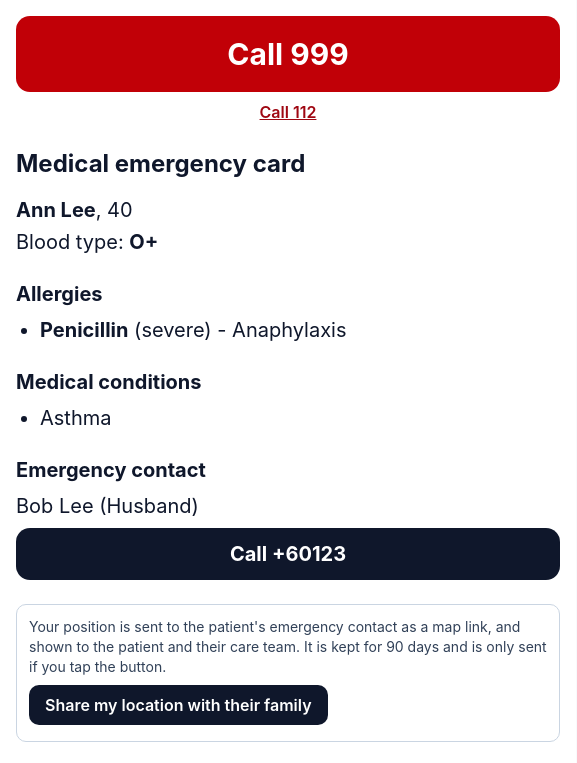
it: EmergencyPublic › location sharing › an expired token (400) suggests rescanning
This screenshot has width=577, height=763.
Expected: the text "Ann Lee" is shown, x1=16 y1=198 x2=96 y2=222
Click the button "Share my location with their family" at (178, 705), box x1=29 y1=685 x2=328 y2=725
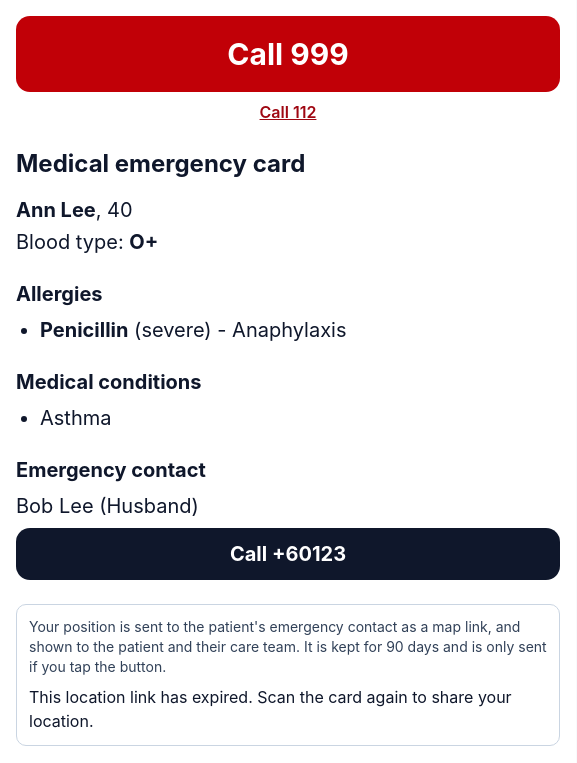
Expected: the text "Ann Lee" is shown, x1=16 y1=198 x2=96 y2=222
Result: the message reads "This location link has expired. Scan the card again to share your location." at x1=29 y1=687 x2=512 y2=731
